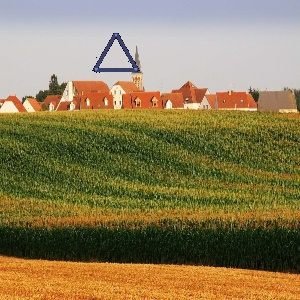triangle: (91, 29, 142, 75)
